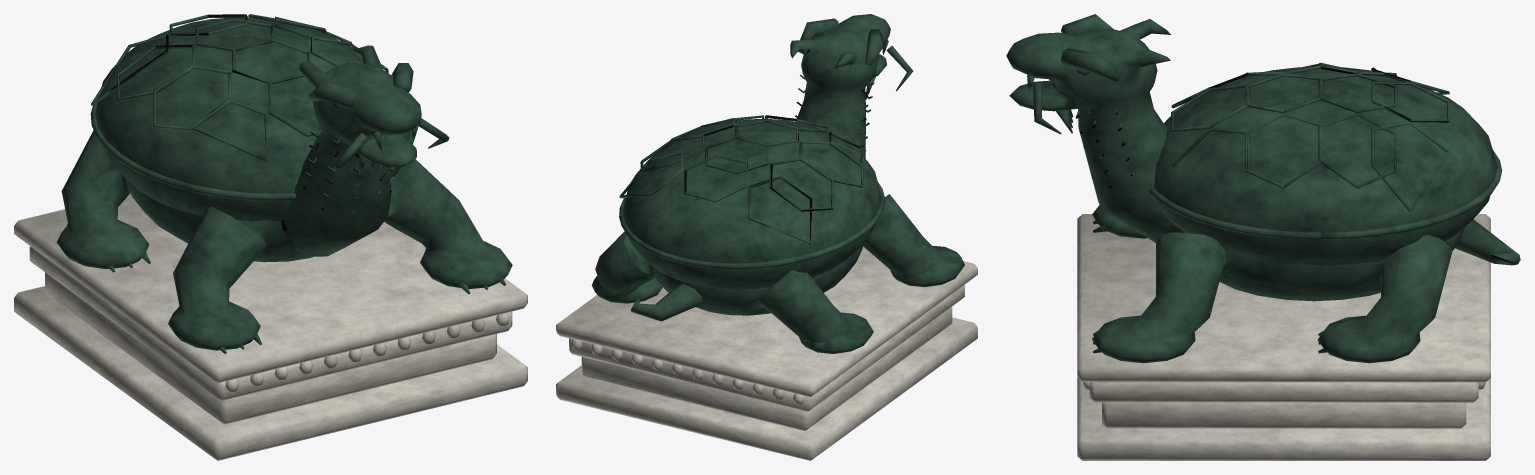
Rendered from kilpikonna.glb.
3 renders of one model, left to right at view 1: azimuth 30°, elevation 25°; view 2: azimuth 150°, elevation 25°; view 3: azimuth 270°, elevation 25°, orthographic. The views are drawn at different scales.
Parts seen in each view (by area): view 1: vihrea-pronssipatina, vaalea-kivi; view 2: vihrea-pronssipatina, vaalea-kivi; view 3: vihrea-pronssipatina, vaalea-kivi.
Boxes of the visible parts, box(x1,y1,x2,y2) form: vihrea-pronssipatina: box(56, 14, 512, 353); vaalea-kivi: box(14, 193, 527, 460); vihrea-pronssipatina: box(591, 14, 964, 353); vaalea-kivi: box(556, 247, 977, 460); vihrea-pronssipatina: box(1006, 14, 1520, 363); vaalea-kivi: box(1077, 214, 1490, 460).
Bounding box in the file's own units: 1.73 × 1.75 × 2.32.
2 materials, 2 textured.
